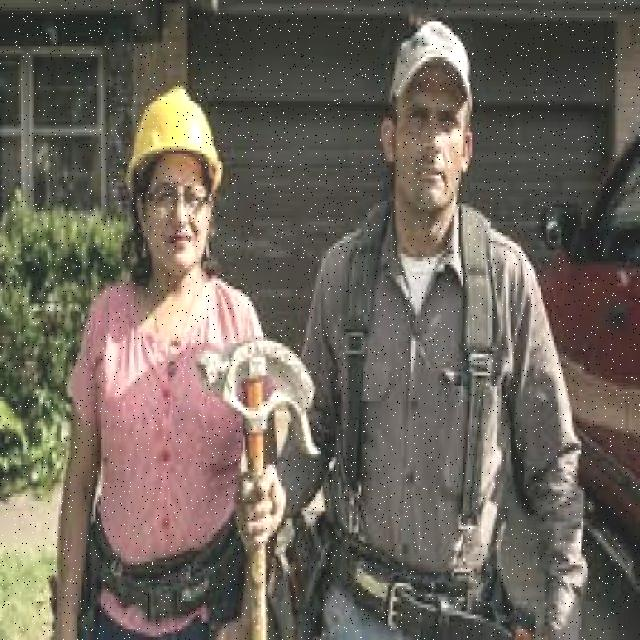Helmet: (121, 82, 222, 193)
